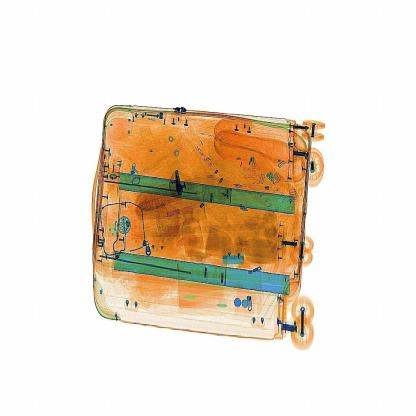pliers: (169, 166, 192, 202)
